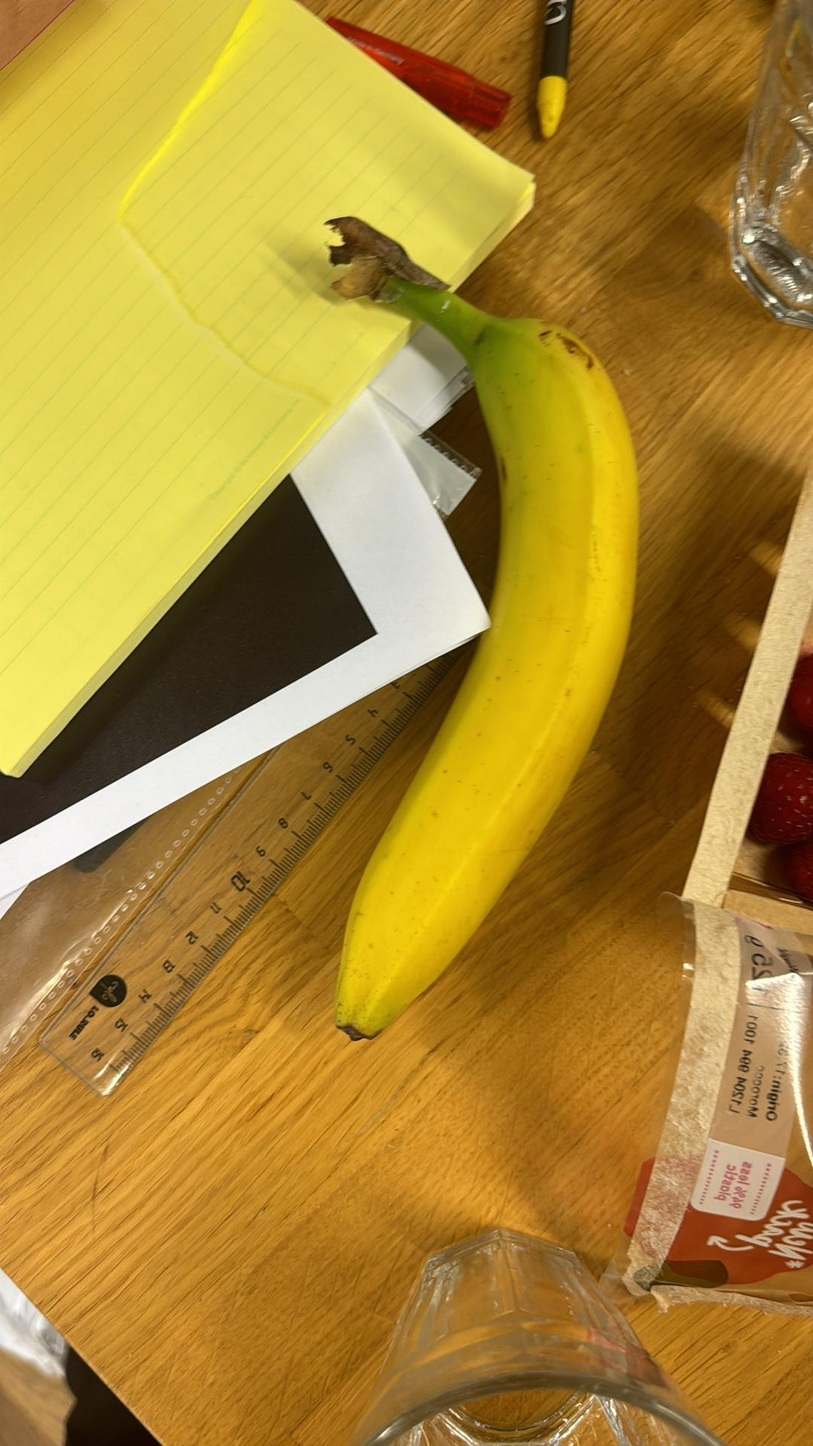banana: (332, 218, 653, 1049)
raspberry: (757, 747, 809, 853)
